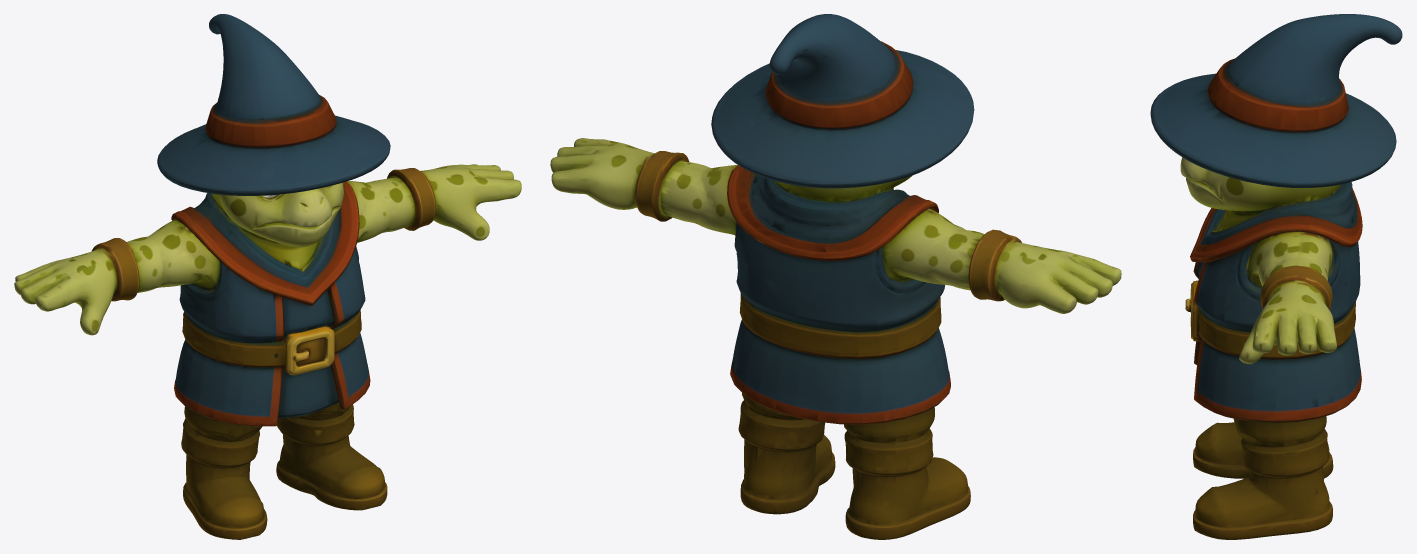
File: Squazzzza.fbx
3 renders of one model, left to right at view 1: azimuth 30°, elevation 25°; view 2: azimuth 150°, elevation 25°; view 3: azimuth 270°, elevation 25°, orthographic. The views are drawn at different scales.
Parts seen in each view (by area): view 1: material; view 2: material; view 3: material.
Boxes of the visible parts, box(x1,y1,x2,y2) form: material: box(14, 14, 521, 539); material: box(550, 14, 1121, 539); material: box(1150, 14, 1402, 539).
Bounding box in the file's own units: 119 × 104 × 49.6.
Materials: 1 (1 with a texture image).
